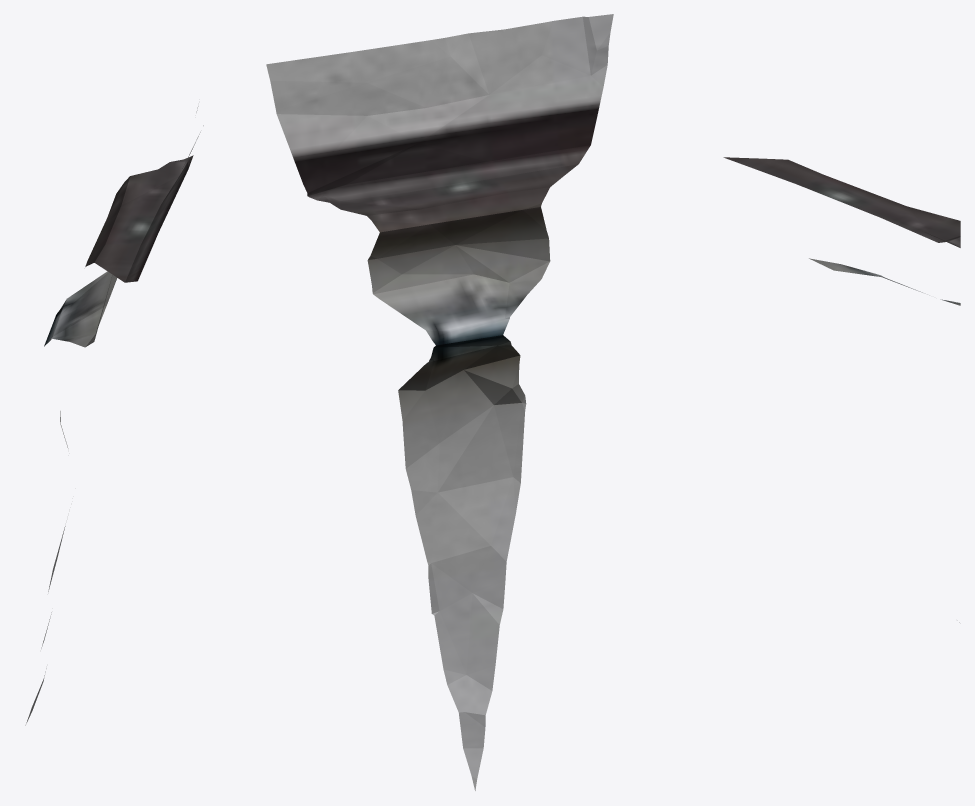
The picture shows the model from 3 angles, left to right: view 1: azimuth 30°, elevation 25°; view 2: azimuth 150°, elevation 25°; view 3: azimuth 270°, elevation 25°; orthographic projection. The views are drawn at different scales.
Bounding box in the file's own units: 0.176 × 0.5442 × 0.2019.
1 material, 1 textured.
